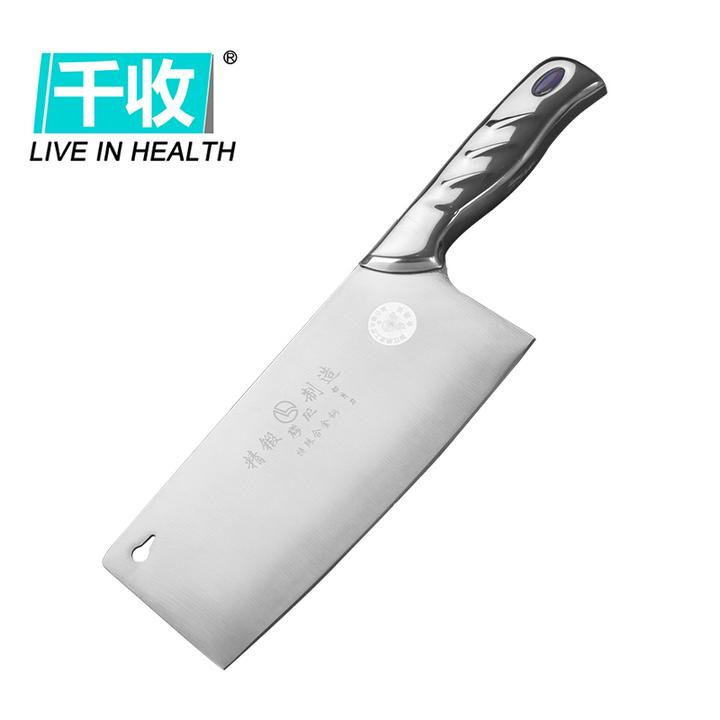knief: (49, 63, 622, 654)
